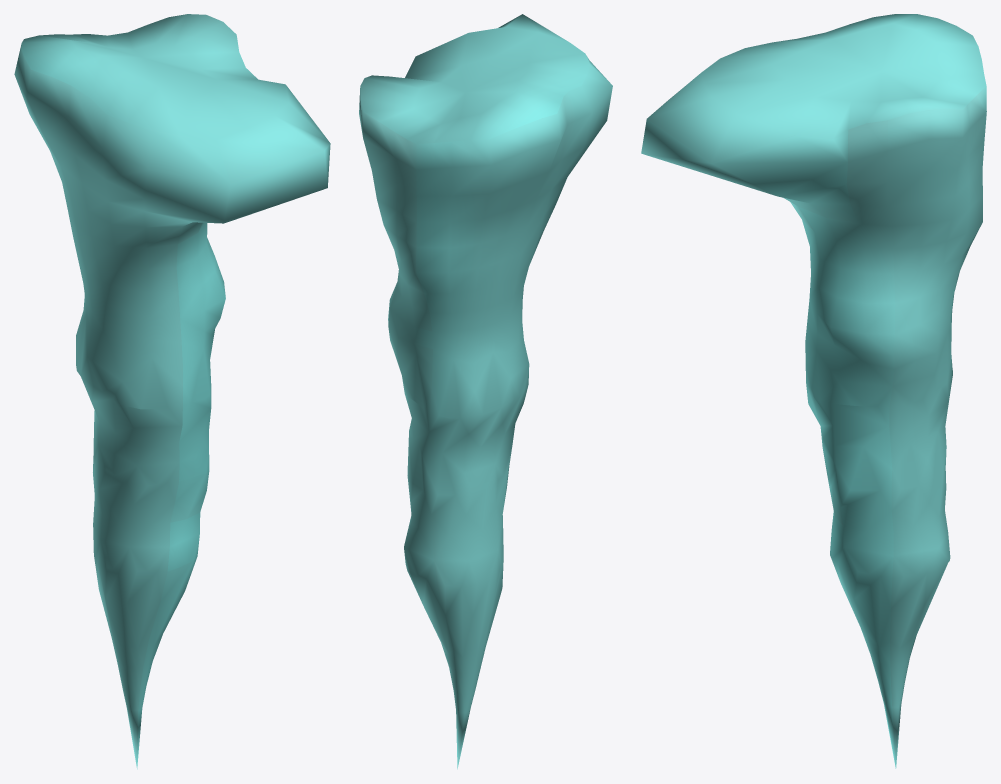
The model's file is iciclelarge-new.glb.
3 views of the same model, side by side, from view 1: azimuth 30°, elevation 25°; view 2: azimuth 150°, elevation 25°; view 3: azimuth 270°, elevation 25° (orthographic). The views are drawn at different scales.
Parts seen in each view (by area): view 1: Cylinder.002; view 2: Cylinder.002; view 3: Cylinder.002.
Part boxes in pixels (box(x1,y1,x2,y2)): Cylinder.002: box(14, 14, 330, 769); Cylinder.002: box(359, 14, 612, 769); Cylinder.002: box(641, 14, 986, 768).
Size of the model in its own units: 0.2544 by 0.8587 by 0.3752.
1 material, 1 textured.
